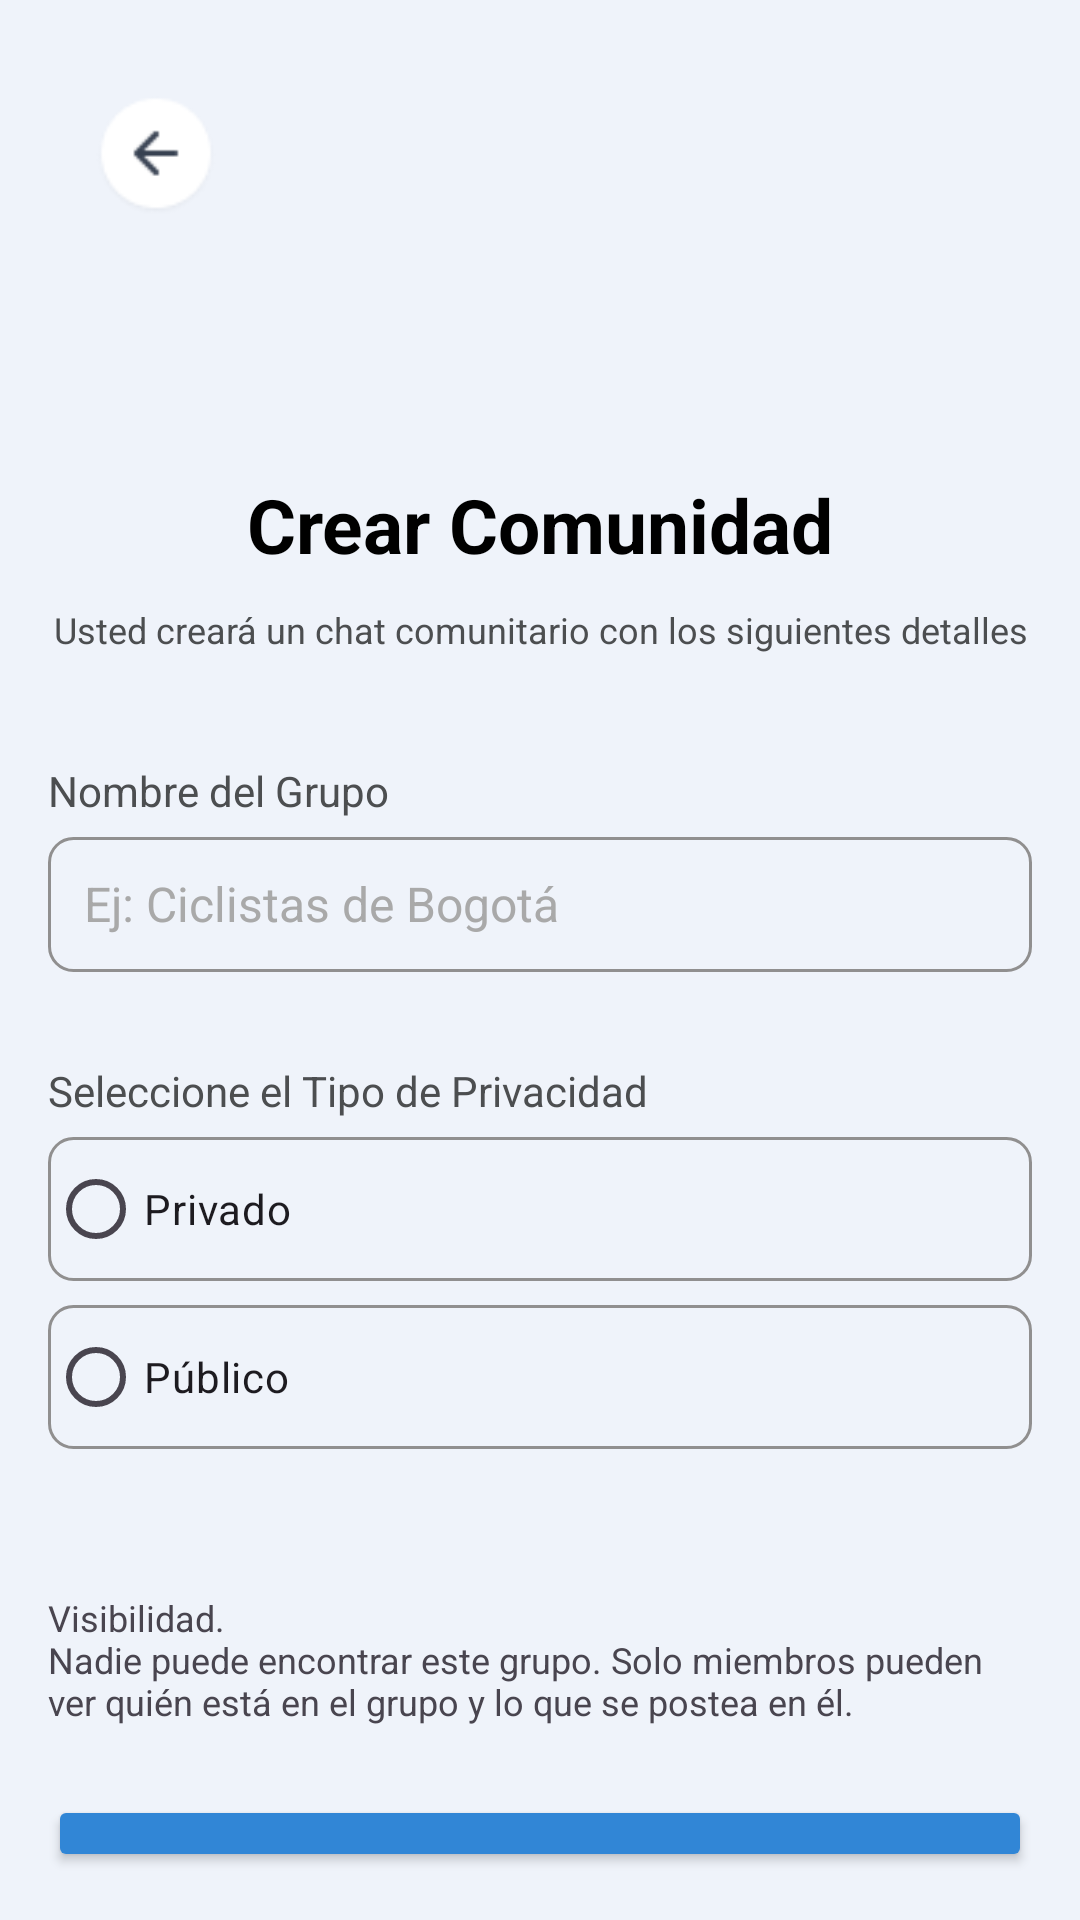

Screen size 1080*1920. Icon name, then its box in pixels as (x1, y1, x2, y2):
Botón de regreso: (101, 99, 210, 207)
